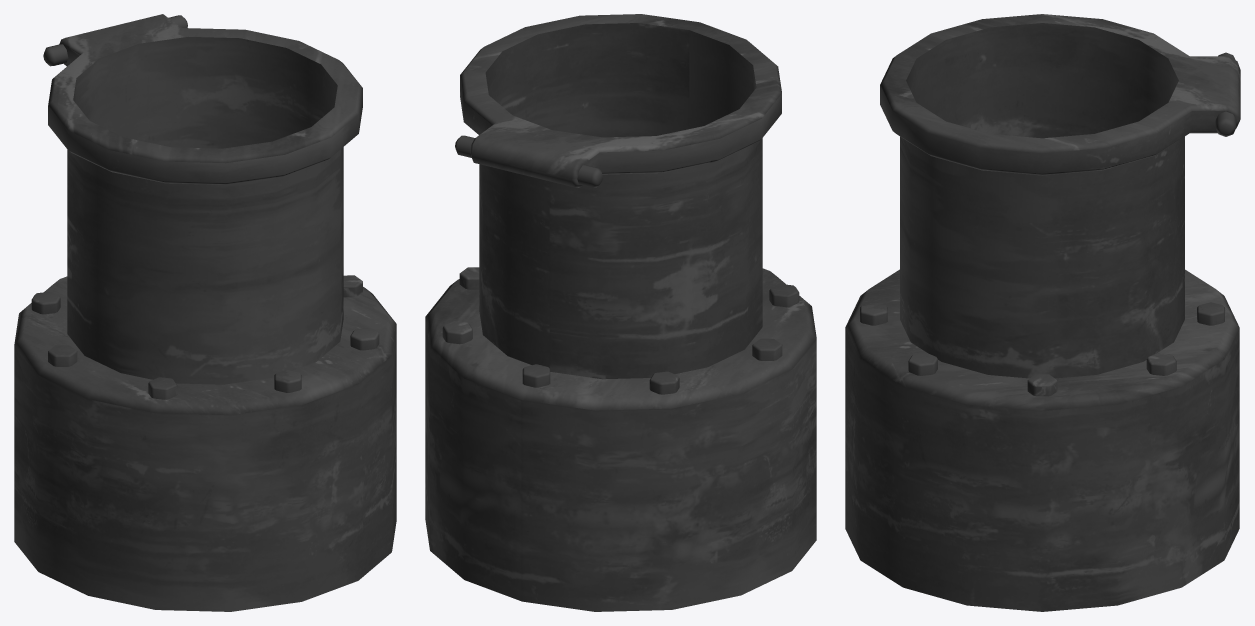
File: pipe_004.fbx
3 renders of one model, left to right at view 1: azimuth 30°, elevation 25°; view 2: azimuth 150°, elevation 25°; view 3: azimuth 270°, elevation 25°, orthographic. The views are drawn at different scales.
Visible parts, largest first — view 1: pipe_004; view 2: pipe_004; view 3: pipe_004.
Boxes of the visible parts, box(x1,y1,x2,y2) form: pipe_004: box(14, 14, 396, 611); pipe_004: box(425, 14, 816, 611); pipe_004: box(845, 14, 1240, 611).
Bounding box in the file's own units: 881 × 883 × 1104.
